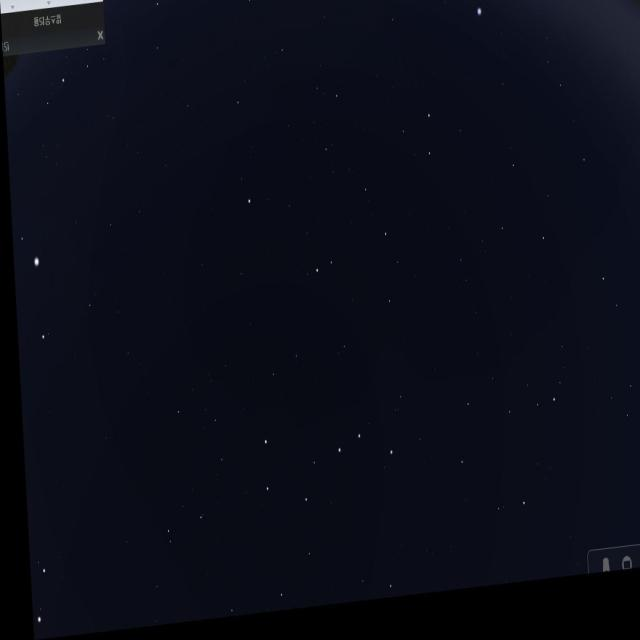ursa_major: (254, 403, 395, 535)
